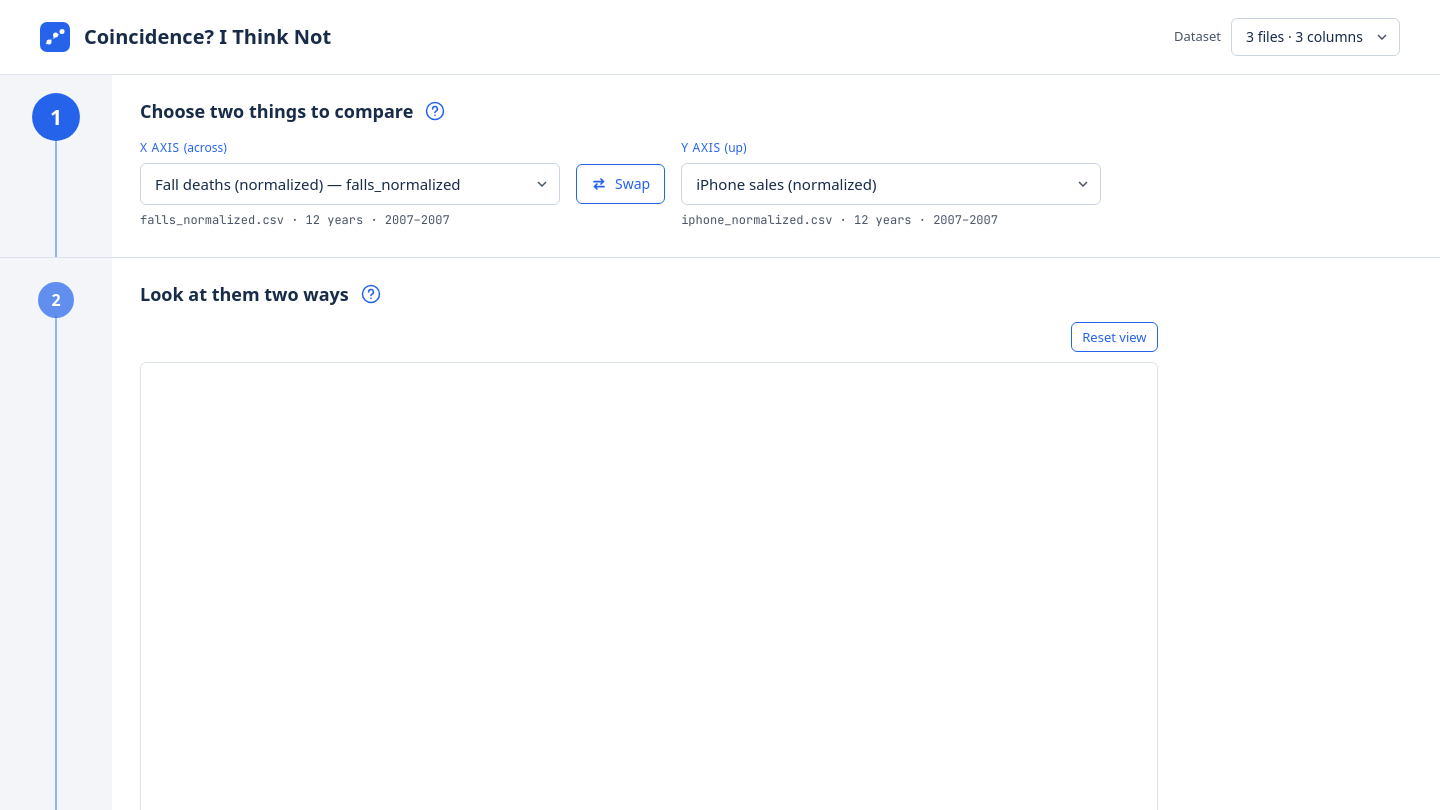
Test case: step 1: choose two things to compare › changing a picker updates the selection and the meta line
Select "Fall deaths (normalized) — normalized_merged_set" in the dropdown labelled "Y axis (up)" at {"x": 891, "y": 184}, box [681,163,1101,205]
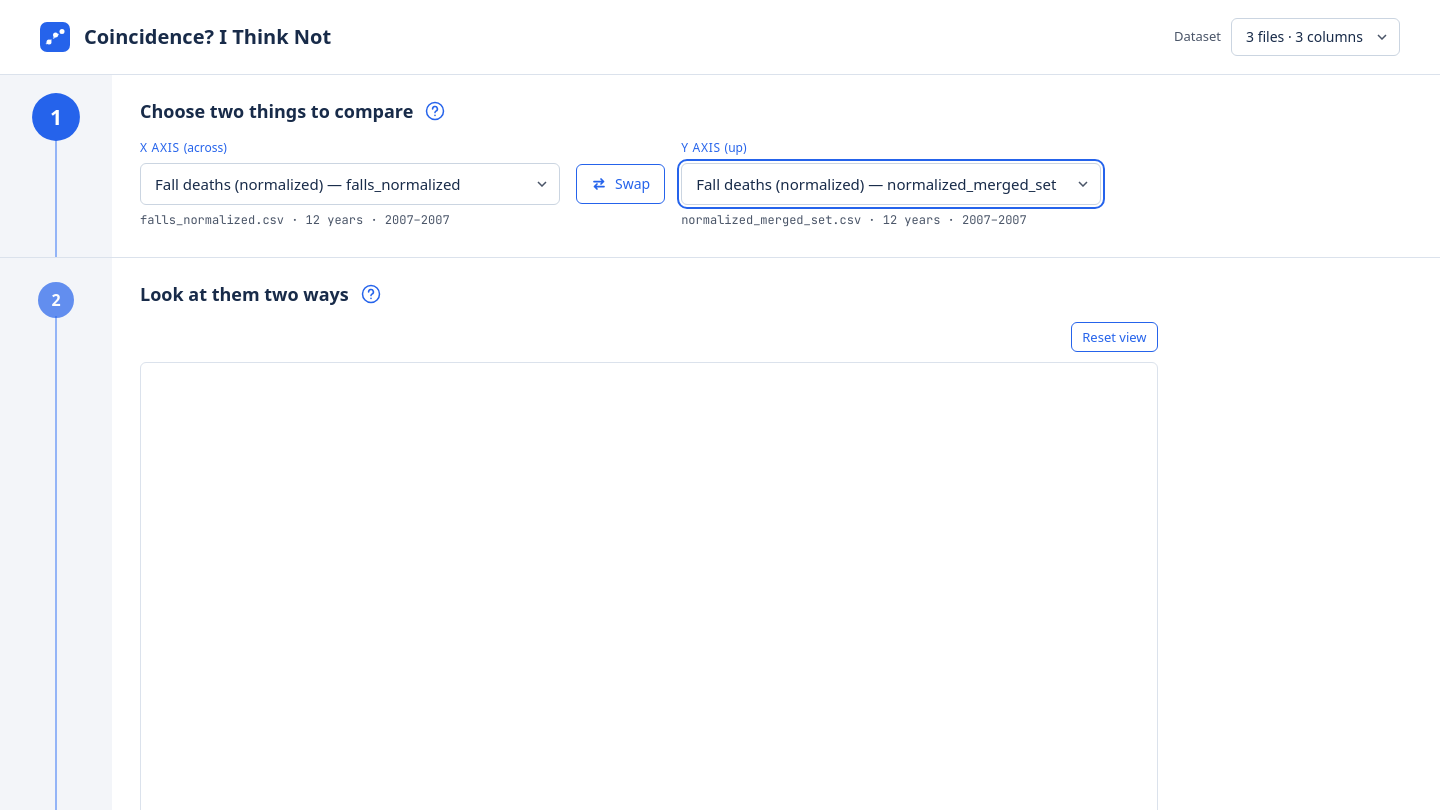
Expected: the text "normalized_merged_set.csv · 12 years · 2007–2007" is shown, [681,212,1027,228]
